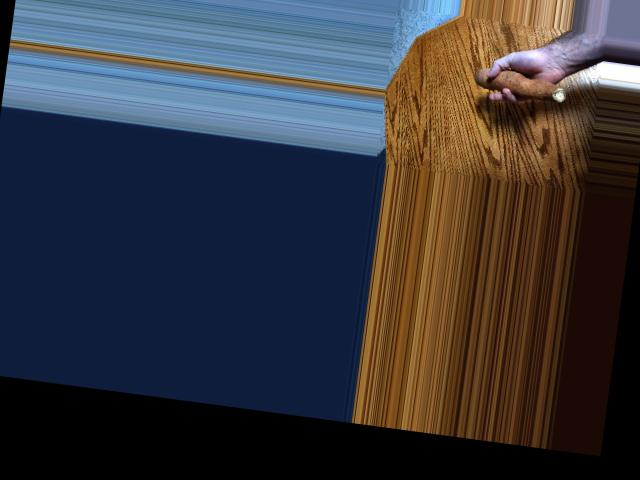sweet_potato: (467, 70, 571, 107)
